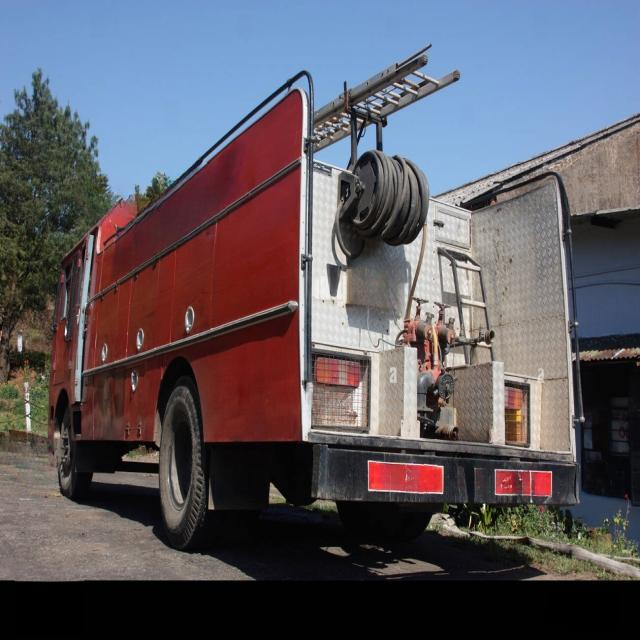emergency: (49, 49, 581, 548)
